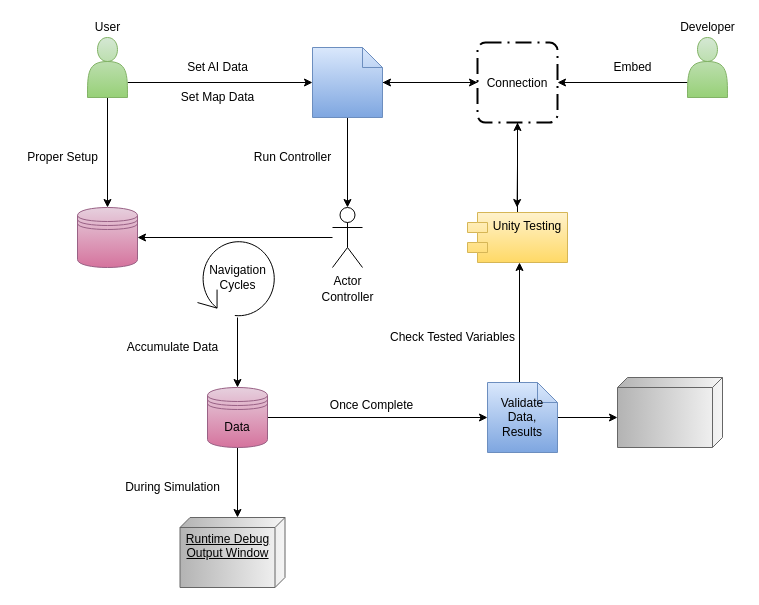
This 759x605 diagram has some shape labels left out. Here are the shapes that lost their labels. From the top down, the centre of each, then its label:
At pixel 347 82: "AI Script".
At pixel 107 237: "Map".
At pixel 669 412: "Results Window".
